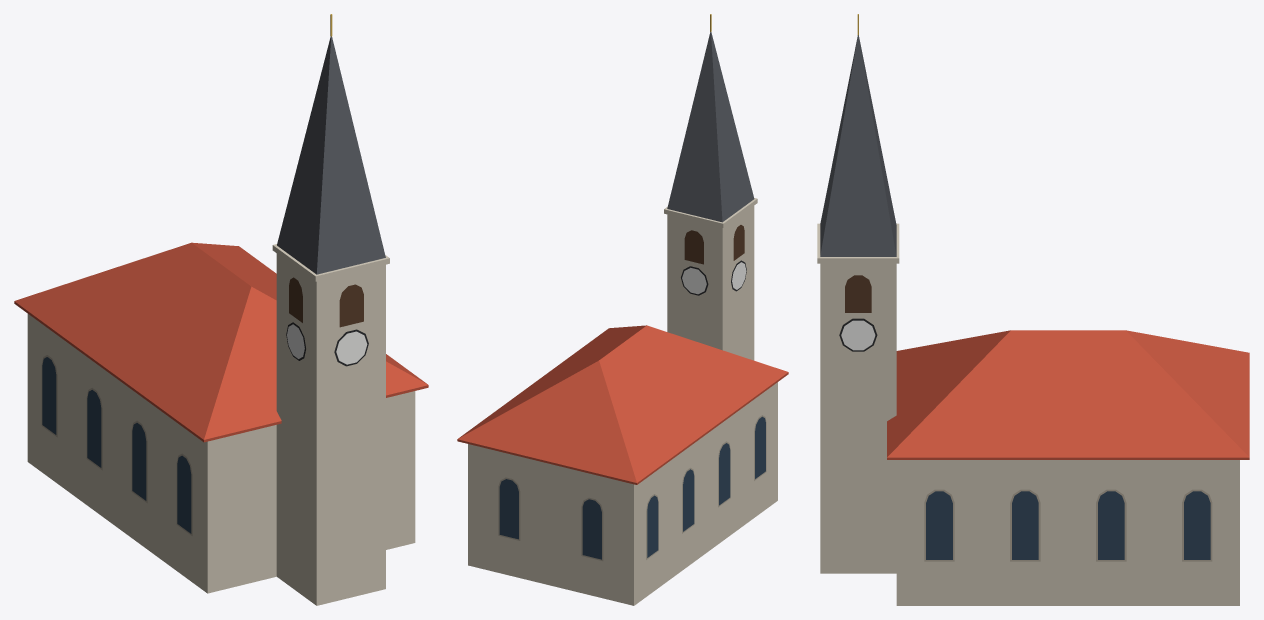
The model's file is temple_protestant.glb.
3 views of the same model, side by side, from view 1: azimuth 30°, elevation 25°; view 2: azimuth 150°, elevation 25°; view 3: azimuth 270°, elevation 25° (orthographic). The views are drawn at different scales.
Parts seen in each view (by area): view 1: temple_protestant; view 2: temple_protestant; view 3: temple_protestant.
Part boxes in pixels (<box>): temple_protestant: <box>14,14,428,605</box>; temple_protestant: <box>457,14,788,605</box>; temple_protestant: <box>817,14,1249,605</box>.
Bounding box in the file's own units: 13 × 31.4 × 22.65.
Materials: 1 (1 with a texture image).
